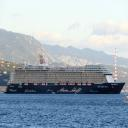cruises: (7, 55, 127, 98)
